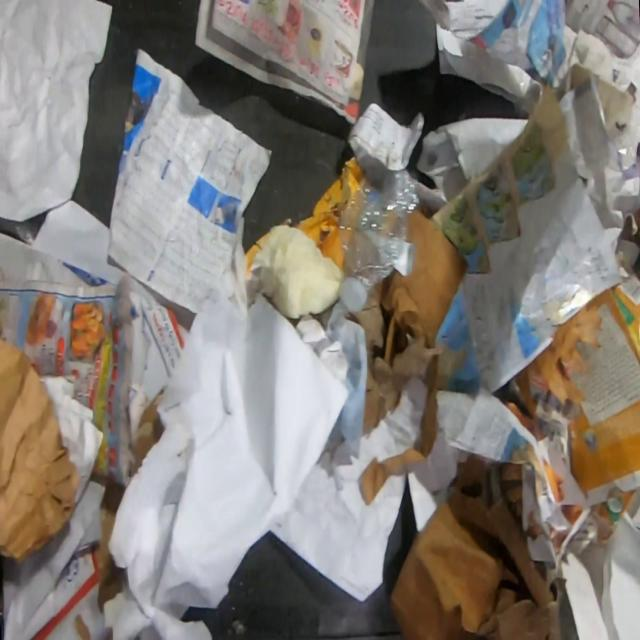cardboard: (388, 452, 557, 640), (358, 344, 469, 505), (380, 203, 468, 367), (291, 156, 366, 267)
rigid_plastic: (335, 159, 419, 313)
